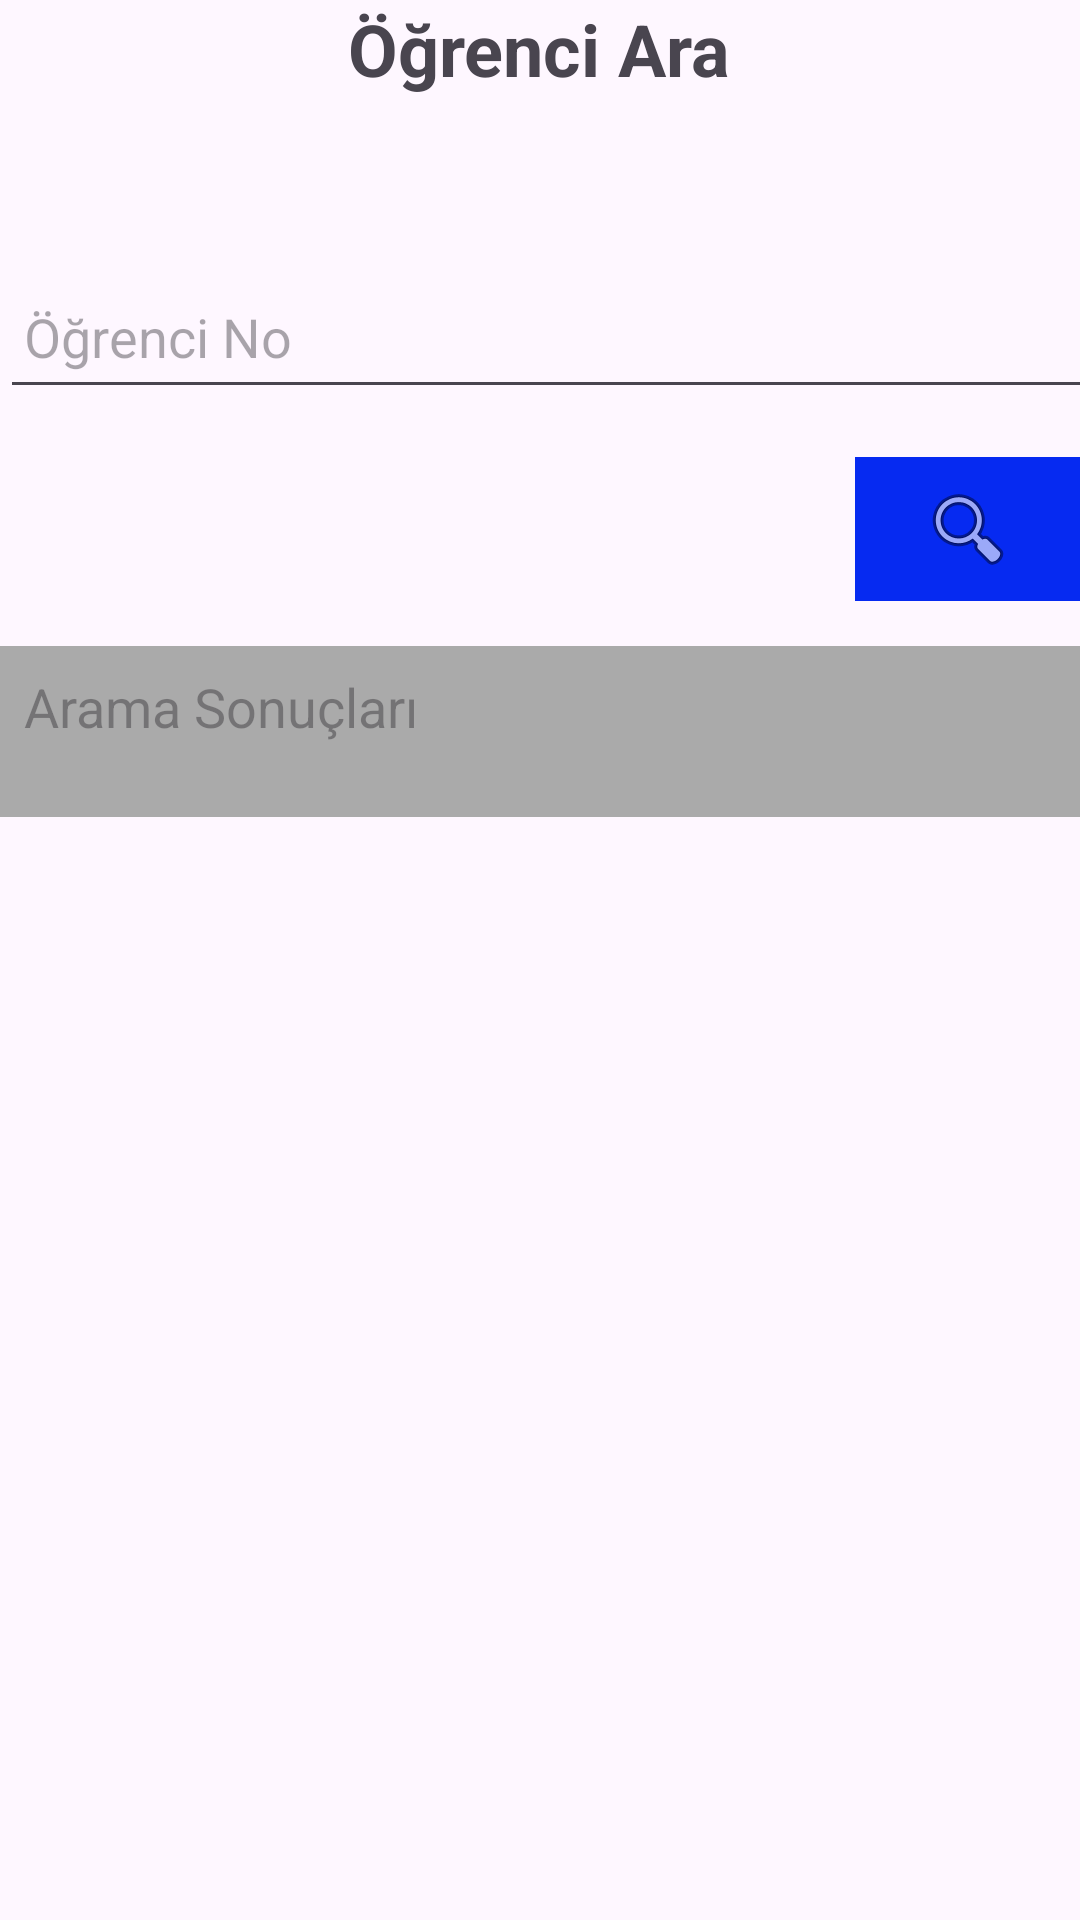

Named icons in this screenshot (1080×1920) and their centers, (x=x, y=y):
Ara: (x=967, y=529)
